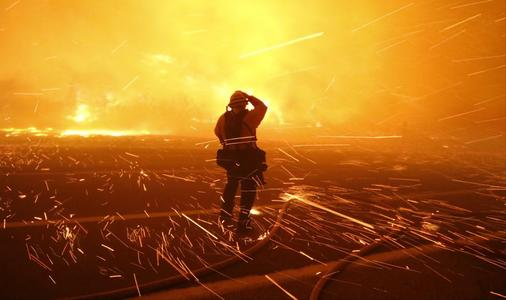fire: (50, 93, 126, 137)
